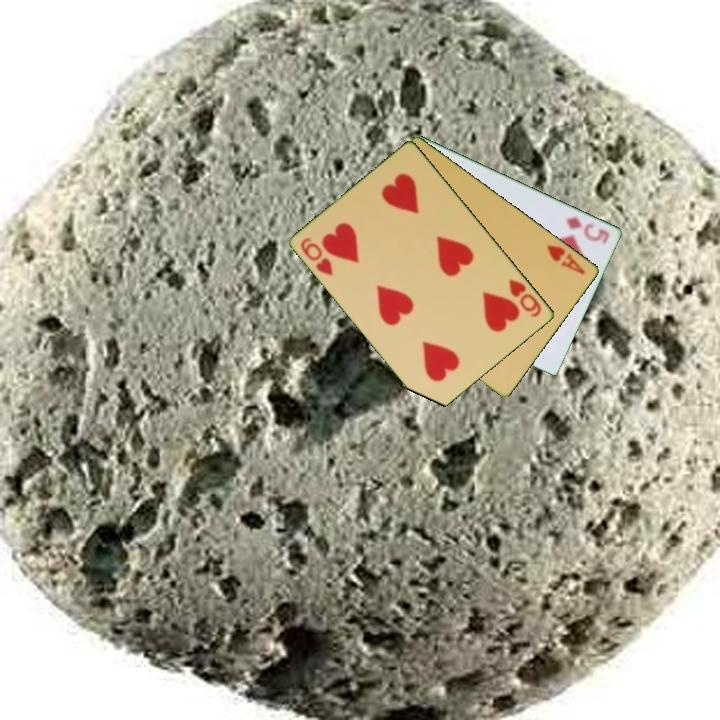5d: (562, 212, 613, 248)
6h: (505, 275, 545, 320), (297, 234, 336, 279)
Ah: (543, 241, 589, 277)
